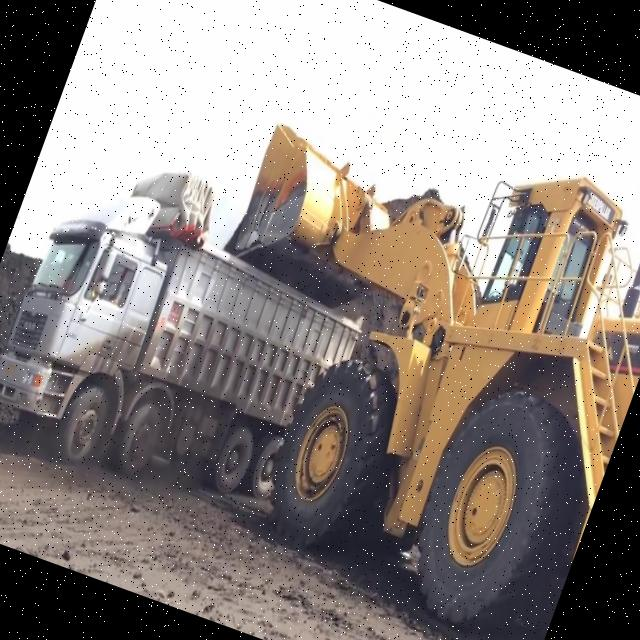Dump Truck: (0, 126, 395, 542)
Loader: (130, 43, 640, 640)
